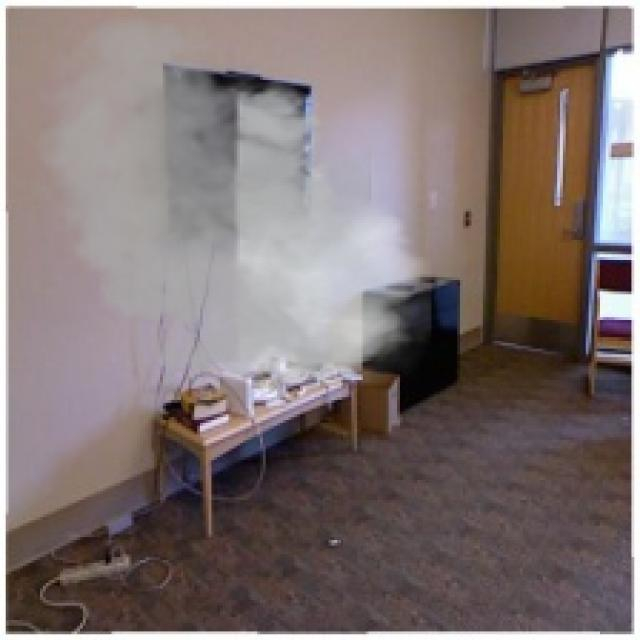smoke: (20, 9, 431, 400)
